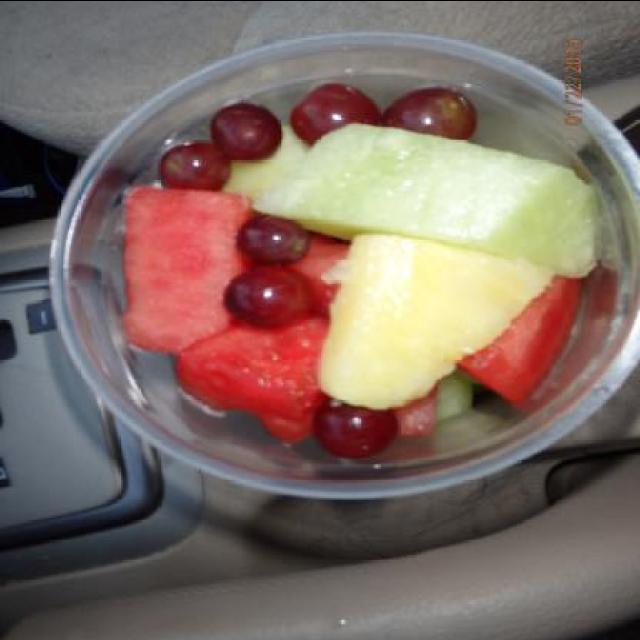Watermelon: (127, 181, 256, 353), (454, 263, 592, 414), (167, 317, 331, 443), (286, 219, 350, 321), (396, 376, 436, 434)
